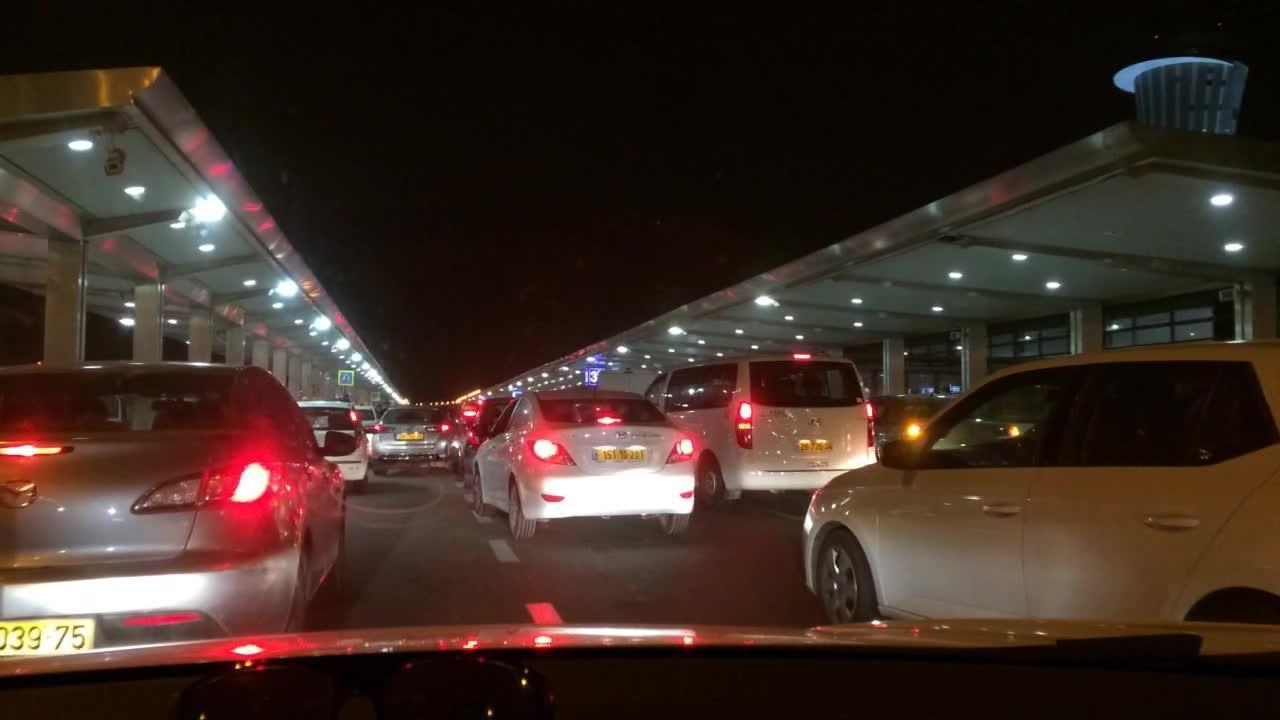Mazda: (0, 471, 43, 521)
